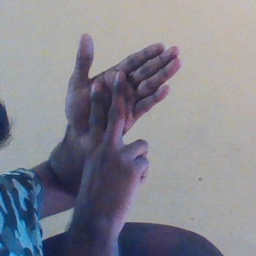N: (54, 31, 188, 180)
